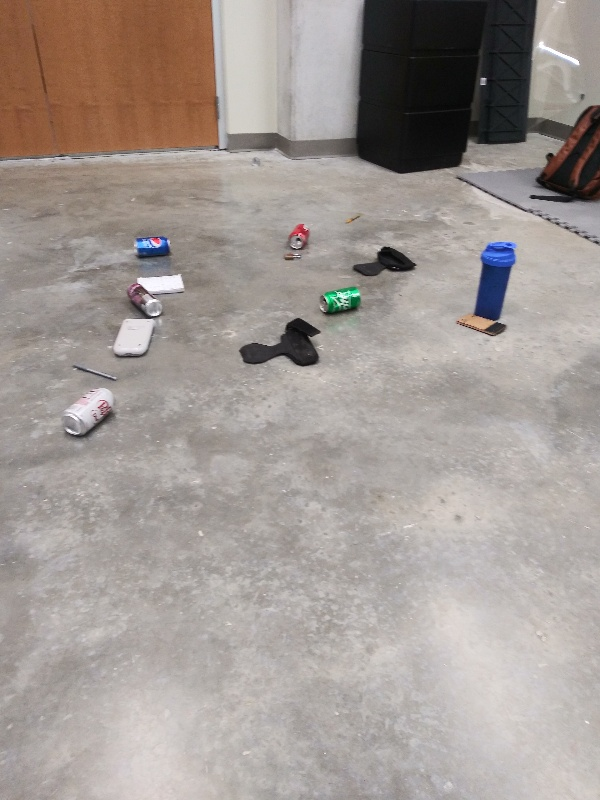can: (58, 384, 123, 441), (315, 281, 369, 318), (124, 281, 167, 320), (129, 232, 171, 260), (285, 219, 311, 251)
